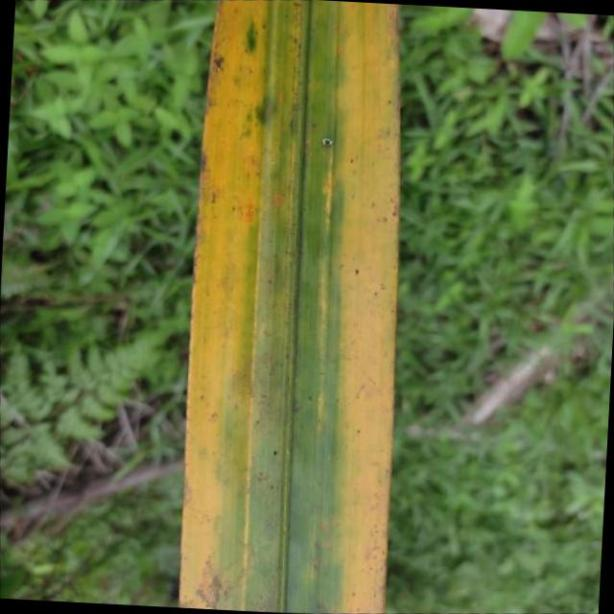Megnesium: (179, 0, 400, 614)
